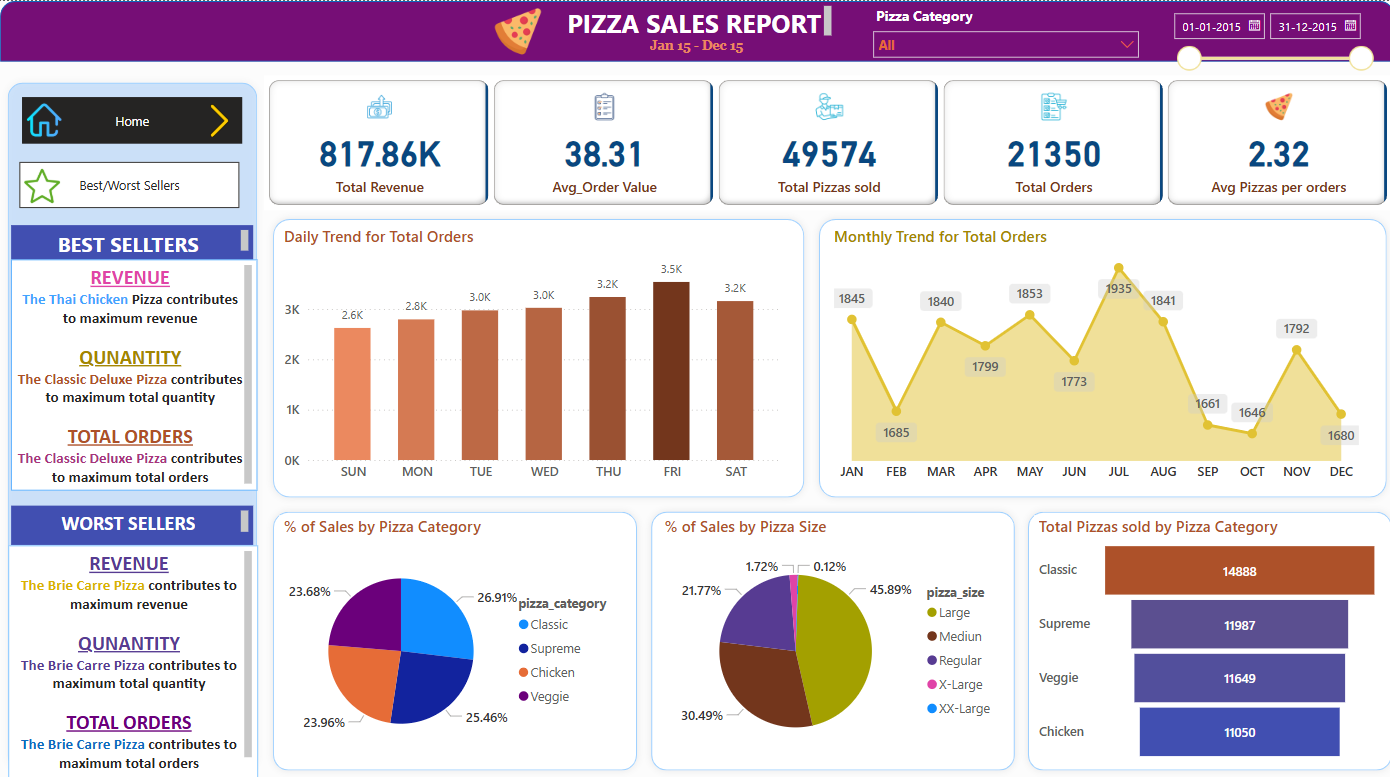

The page's visual inventory and layout, read from the dashboard file:
{"tool":"powerbi","page":{"name":"Home","canvas":[1500,820],"ordinal":0},"visuals":[{"type":"cardVisual","fields":{"Data":["pizza_sales.Total Revenue","pizza_sales.Avg_Order Value","pizza_sales.Total Pizzas sold","pizza_sales.Total Orders","pizza_sales.Avg Pizzas per orders"]},"box":[295,78.6,1191.3,142.7],"z":0},{"type":"shape","box":[16.1,0,1470.2,64.2],"z":1000},{"type":"shape","box":[16,78.6,279,740.7],"z":2000},{"type":"textbox","box":[606.1,0,291.8,43.3],"z":3000},{"type":"textbox","box":[696,31.9,133.4,33.3],"z":4000},{"type":"image","box":[517.9,1.6,88.2,60.9],"z":5000},{"type":"shape","box":[295.3,221.5,576.2,309.8],"z":6000},{"type":"columnChart","title":"Daily Trend for Total Orders","fields":{"Category":["pizza_sales.Order day"],"Y":["pizza_sales.Total Orders"]},"box":[309.8,235.9,534.5,280.9],"z":7000},{"type":"shape","box":[871.5,221.5,614.7,309.8],"z":8000},{"type":"areaChart","title":"Monthly Trend for Total Orders","fields":{"Category":["pizza_sales.Order Month"],"Y":["pizza_sales.Total Orders"]},"box":[890.8,235.9,563.4,280.9],"z":9000},{"type":"shape","box":[295.3,531.3,400,288.9],"z":10000},{"type":"shape","box":[1091.4,531.3,400,288.9],"z":11000},{"type":"shape","box":[695,531.3,399.7,288.9],"z":12000},{"type":"pieChart","title":"% of Sales by Pizza Category","fields":{"Category":["pizza_sales.pizza_category"],"Y":["pizza_sales.Total Revenue"]},"box":[309.8,542.5,366,264.8],"z":13000},{"type":"pieChart","title":"% of Sales by Pizza Size","fields":{"Y":["pizza_sales.Total Revenue"],"Category":["pizza_sales.pizza_size"]},"box":[712.6,542.5,366,264.8],"z":14000},{"type":"funnel","title":"Total Pizzas sold by Pizza Category","fields":{"Category":["pizza_sales.pizza_category"],"Y":["pizza_sales.Total Pizzas sold"]},"box":[1105.9,542.5,369.2,264.8],"z":15000},{"type":"textbox","box":[27.3,235.7,254.9,41.7],"z":16000},{"type":"textbox","box":[27.3,272.6,259.7,243.7],"z":17000},{"type":"textbox","box":[27.3,532.3,254.9,41.7],"z":18000},{"type":"textbox","box":[24.1,574,262.9,245.3],"z":19000},{"type":"slicer","fields":{"Values":["pizza_sales.pizza_category"]},"box":[926.7,0,299.8,60.9],"z":20000},{"type":"slicer","fields":{"Values":["pizza_sales.order_date"]},"box":[1241,3.2,230.9,75.4],"z":21000},{"type":"pageNavigator","box":[38.5,101,232.5,49.7],"z":22000},{"type":"pageNavigator","box":[36.9,170,232.5,49.7],"z":23000},{"type":"image","box":[224.5,101,44.9,49.7],"z":24000},{"type":"image","box":[36.9,170,48.1,51.3],"z":25000},{"type":"image","box":[38.5,99.4,46.5,51.3],"z":26000}]}

Visuals, with their boxes in screenshot pixels (x1, y1, x2, y2), scaled from the page's 1500x820 canvas onto the 1390x777 screenshot:
cardVisual - pizza_sales.Total Revenue x pizza_sales.Avg_Order Value: <box>273,74,1377,210</box>
shape: <box>15,0,1377,61</box>
shape: <box>15,74,273,776</box>
textbox: <box>562,0,832,41</box>
textbox: <box>645,30,769,62</box>
image: <box>480,2,562,59</box>
shape: <box>274,210,808,503</box>
"Daily Trend for Total Orders" columnChart: <box>287,224,782,490</box>
shape: <box>808,210,1377,503</box>
"Monthly Trend for Total Orders" areaChart: <box>825,224,1348,490</box>
shape: <box>274,503,644,776</box>
shape: <box>1011,503,1382,776</box>
shape: <box>644,503,1014,776</box>
"% of Sales by Pizza Category" pieChart: <box>287,514,626,765</box>
"% of Sales by Pizza Size" pieChart: <box>660,514,1000,765</box>
"Total Pizzas sold by Pizza Category" funnel: <box>1025,514,1367,765</box>
textbox: <box>25,223,262,263</box>
textbox: <box>25,258,266,489</box>
textbox: <box>25,504,262,544</box>
textbox: <box>22,544,266,776</box>
slicer - pizza_sales.pizza_category: <box>859,0,1137,58</box>
slicer - pizza_sales.order_date: <box>1150,3,1364,74</box>
pageNavigator: <box>36,96,251,143</box>
pageNavigator: <box>34,161,250,208</box>
image: <box>208,96,250,143</box>
image: <box>34,161,79,210</box>
image: <box>36,94,79,143</box>
